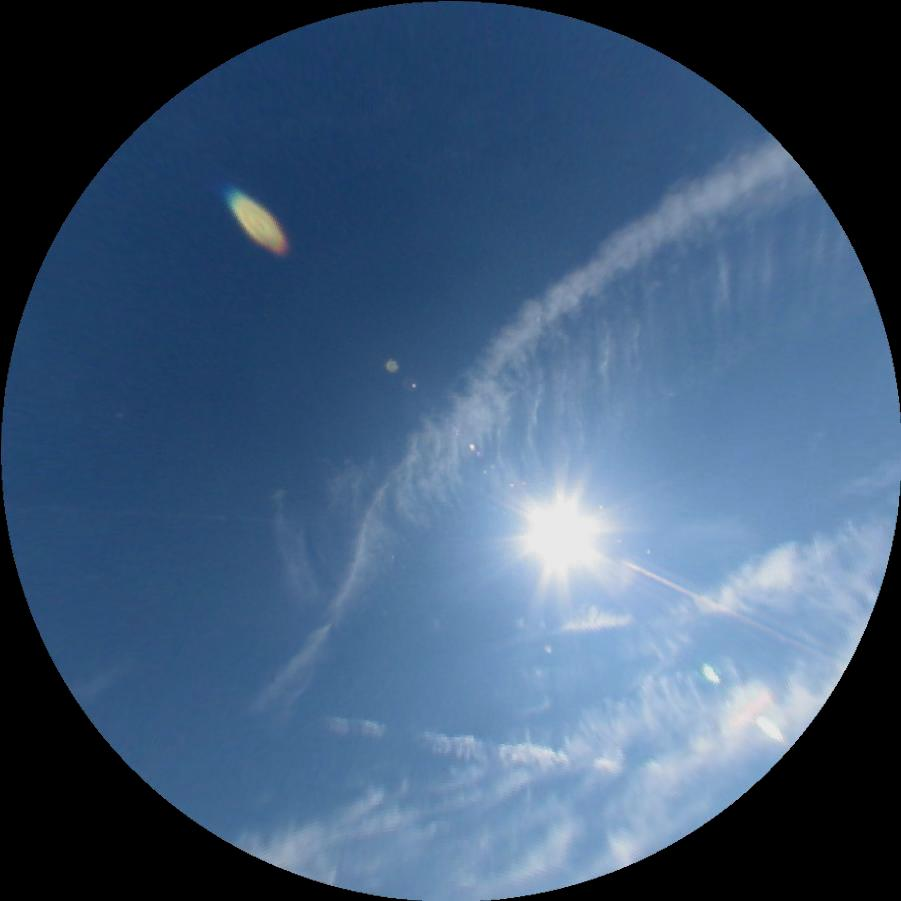contrail old: (323, 714, 622, 778)
contrail veryold: (175, 95, 821, 735), (235, 171, 868, 605)
parasite: (619, 557, 820, 658)
sun: (516, 493, 599, 576)
